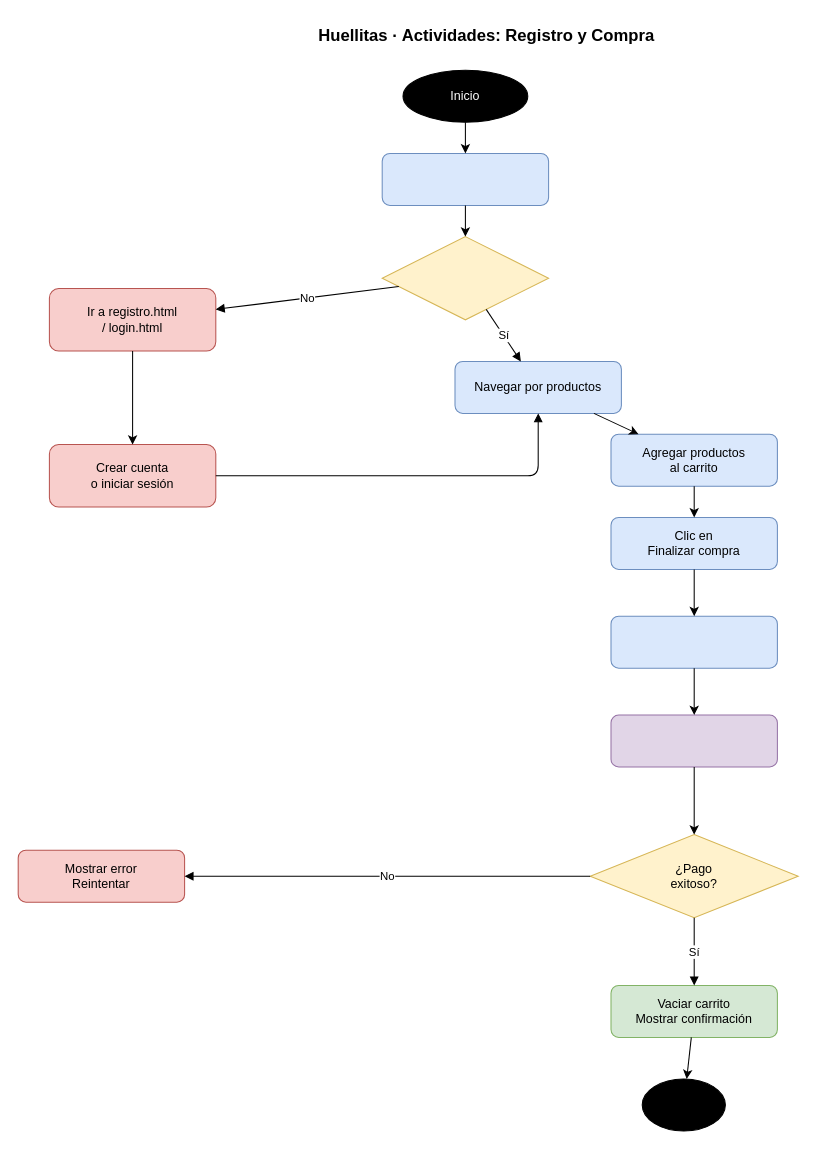
Image size: 816x1149. Some labels were removed from this diagram. The shapes that lost their labels are listed below. From the top down, each one's centre as x and y in pixels, then its label:
At [465,178]: "Visitar index.html".
At [465,278]: "¿Está logueado?".
At [693,641]: "Seleccionar método de pago".
At [693,740]: "Procesar pago (simulado)".
At [683,1104]: "Fin".
